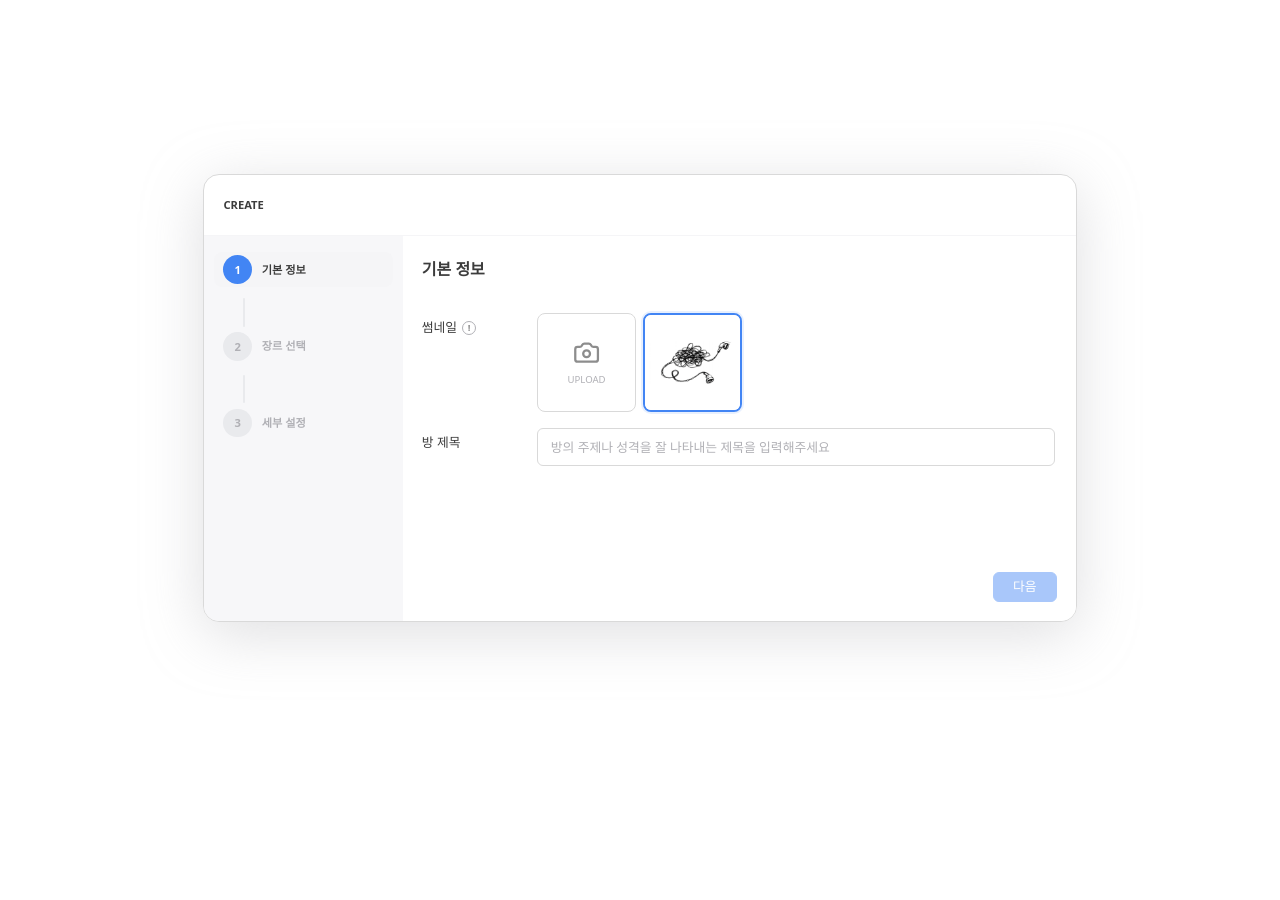
Test case: RoomFormModal room form flows › 방장 생성 충돌은 fallback 오류를 알리고 입력과 생성 모달을 유지한다
Type "유지할 방 제목" into the field labelled "방 제목" at (796, 447), box [537,428,1055,466]
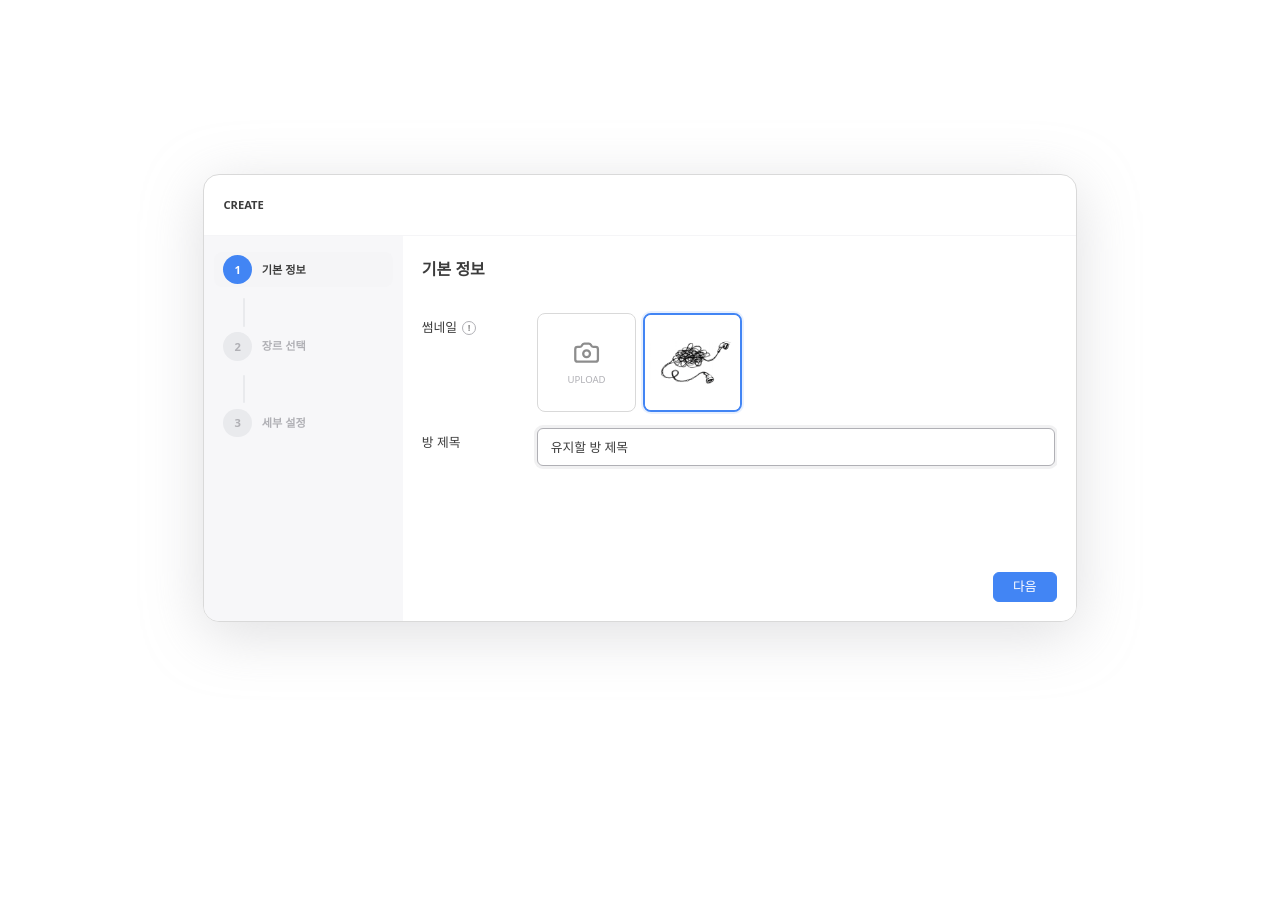
Click the button "다음" at (1025, 587), box [993,572,1057,602]
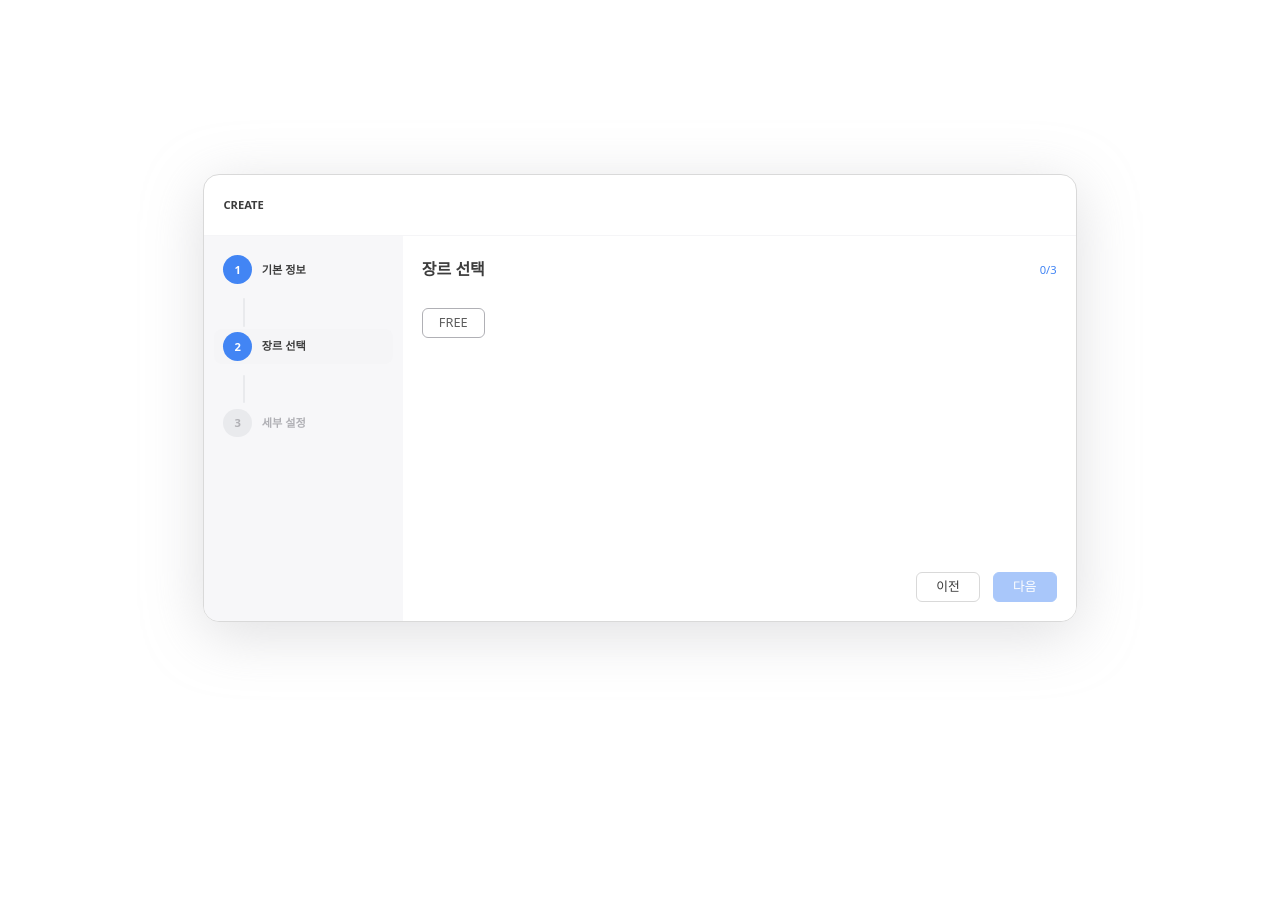
Click the button "FREE" at (453, 323), box [422,308,485,338]
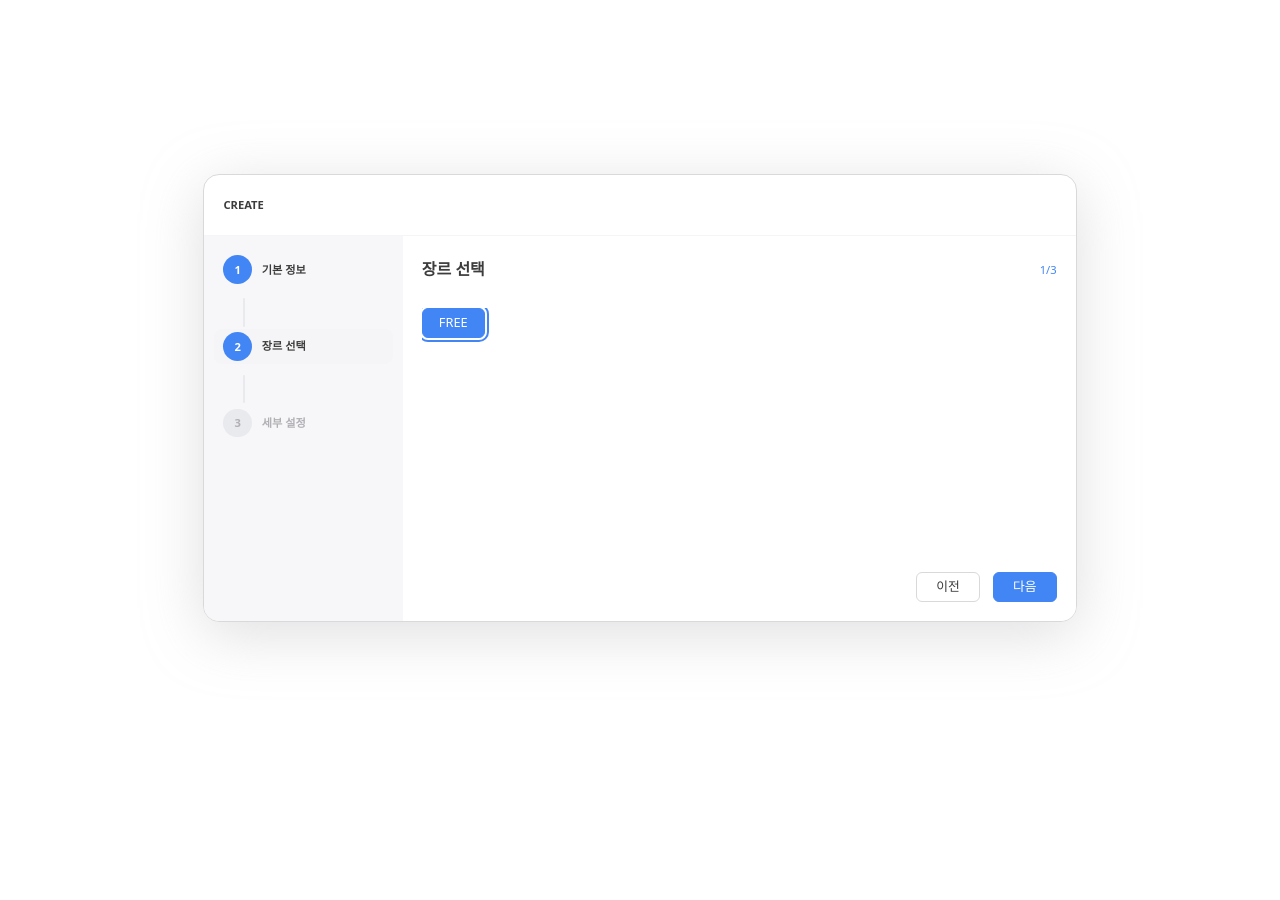
Click the button "다음" at (1025, 587), box [993,572,1057,602]
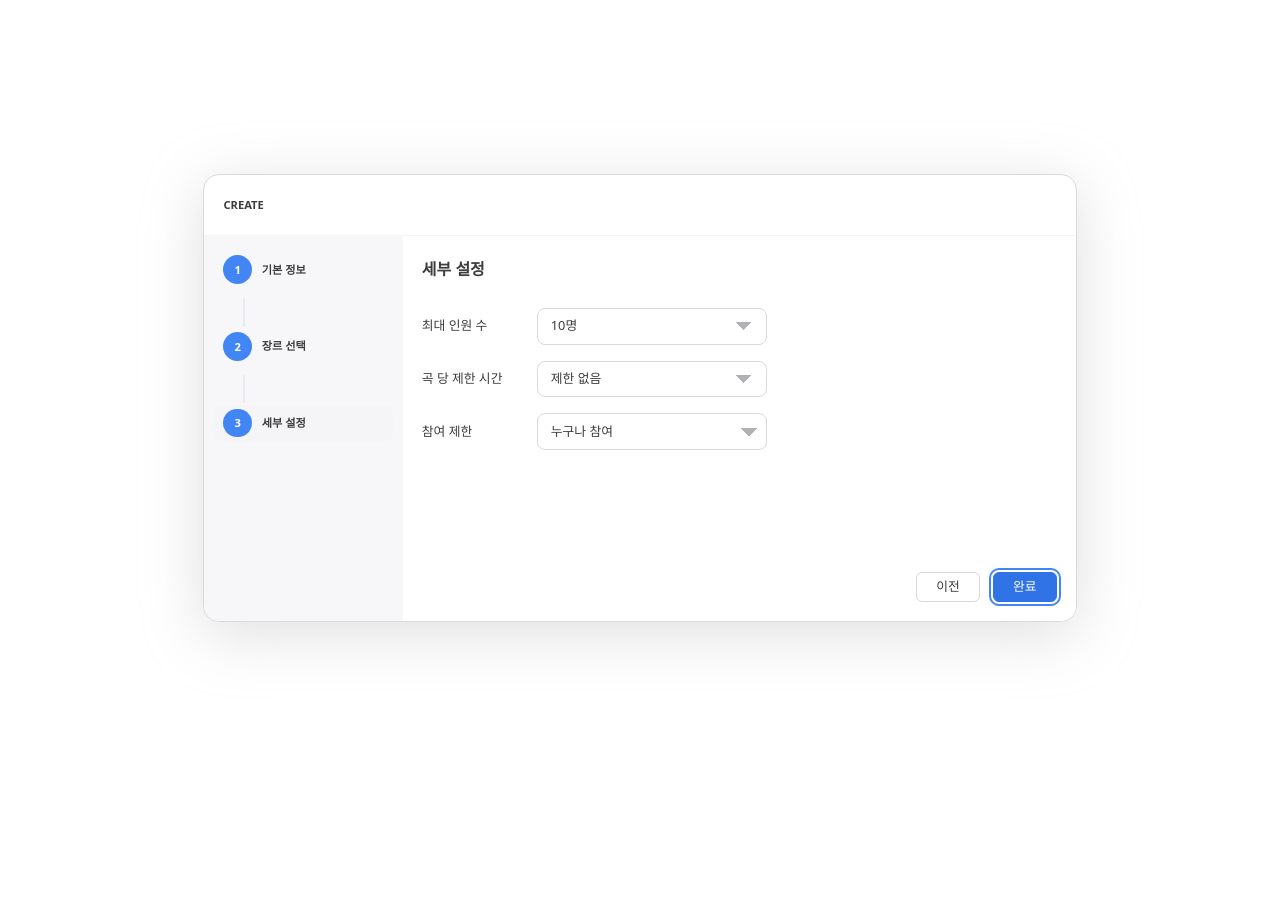
Click the button "완료" at (1025, 587), box [993,572,1057,602]
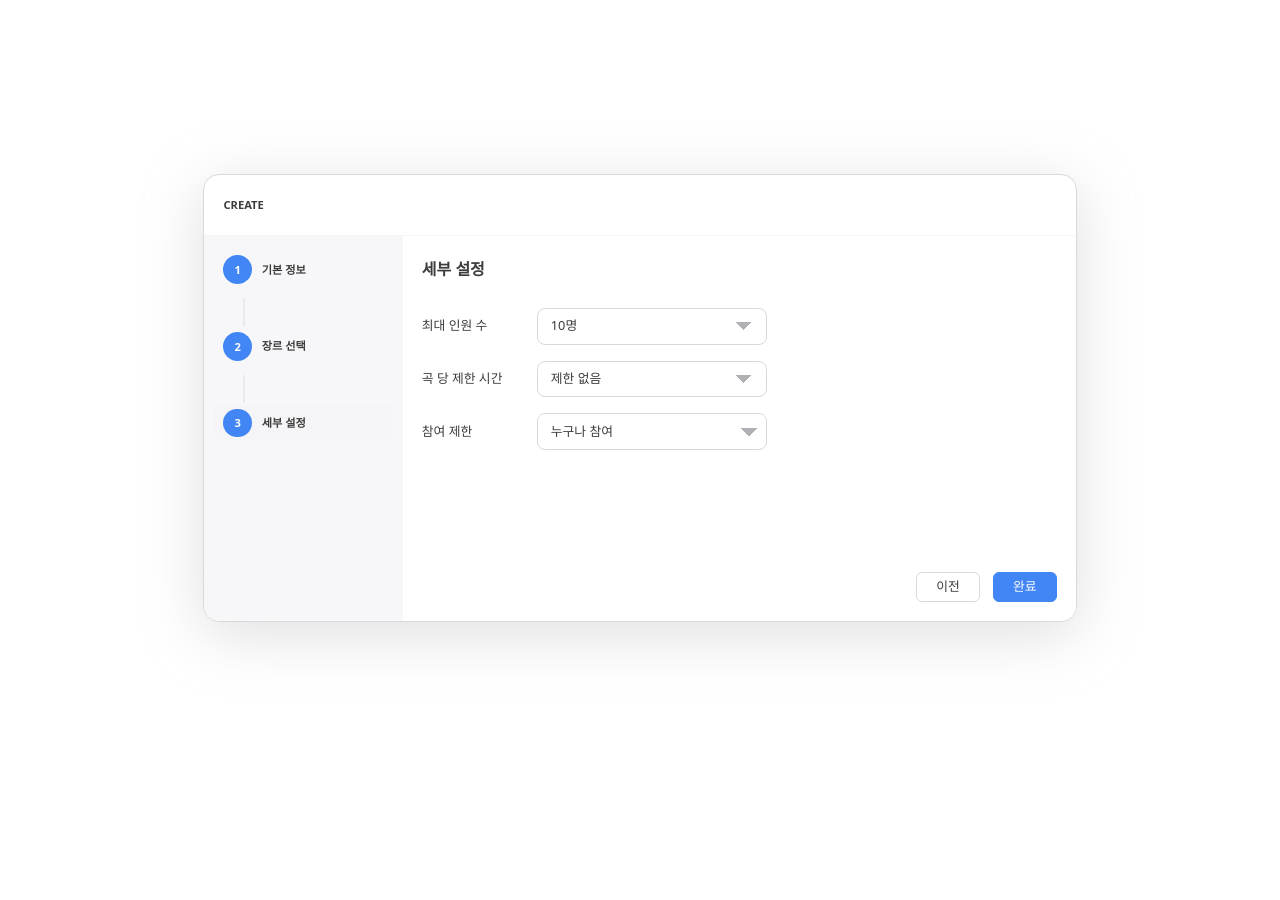
Check: the heading "세부 설정" is shown, box [422,258,485,281]
Click the button "1 기본 정보" at (303, 269), box [214,252,393,287]
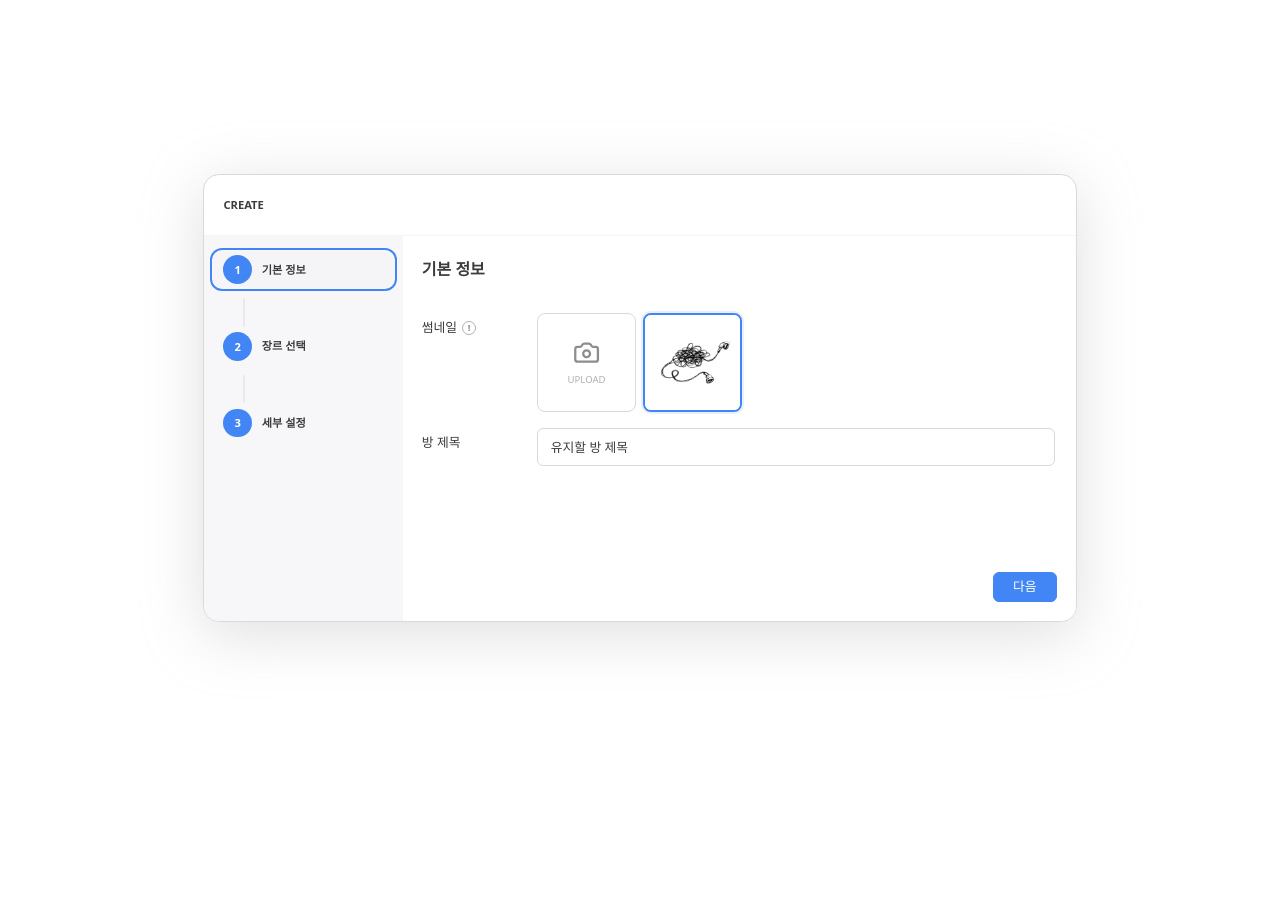
Check: the field labelled "방 제목" holds "유지할 방 제목", box [537,428,1055,466]
